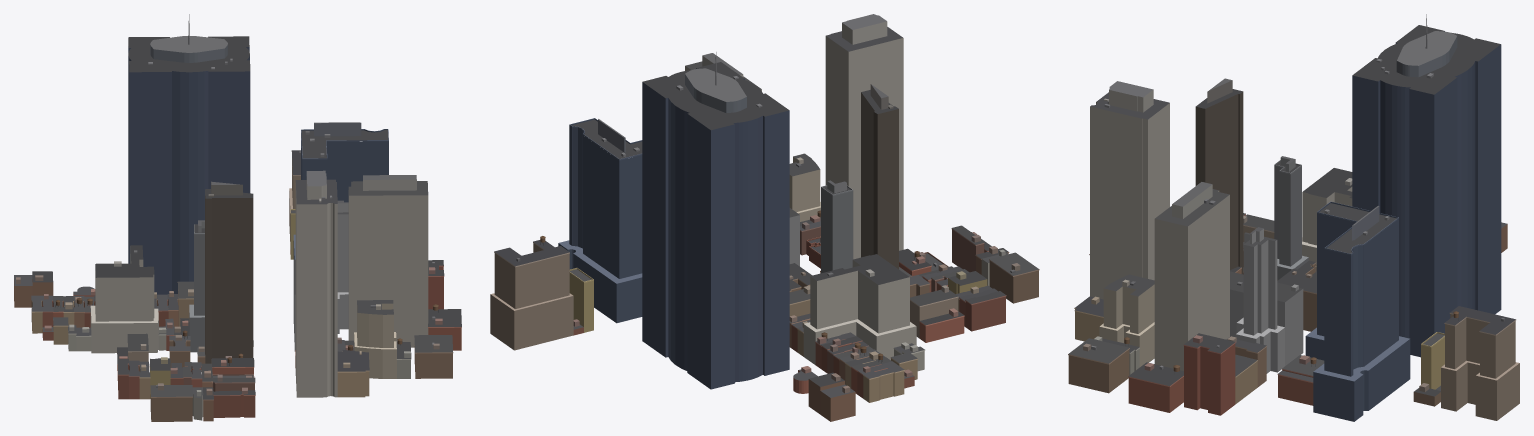
File: -1_1.bld.glb
The picture shows the model from 3 angles, left to right: view 1: azimuth 30°, elevation 25°; view 2: azimuth 150°, elevation 25°; view 3: azimuth 270°, elevation 25°; orthographic projection. The views are drawn at different scales.
Visible parts, largest first — view 1: -1_1; view 2: -1_1; view 3: -1_1.
Boxes of the visible parts, <box> form: -1_1: <box>14,14,461,421</box>; -1_1: <box>490,14,1039,421</box>; -1_1: <box>1068,14,1519,421</box>.
Bounding box in the file's own units: 287 × 221 × 290.
